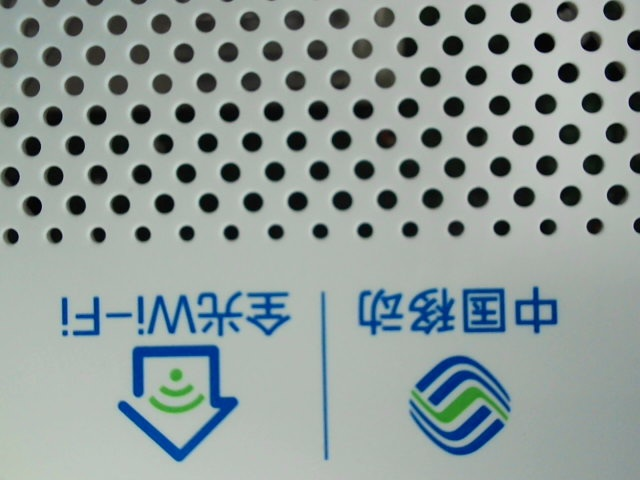BJ_QuanGuangMobile: (55, 285, 564, 465)
